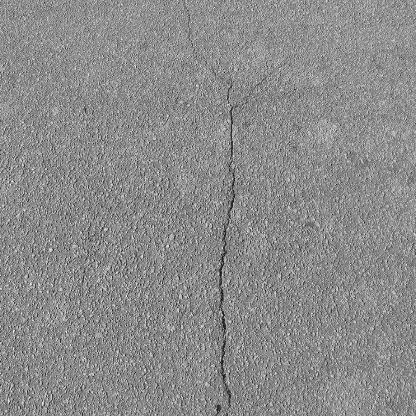Cracks: (180, 0, 277, 416)
